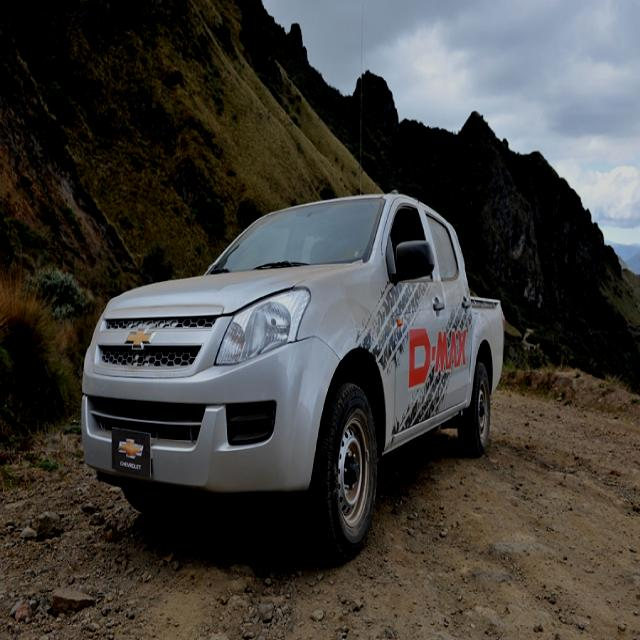CMT: (80, 189, 506, 520)
